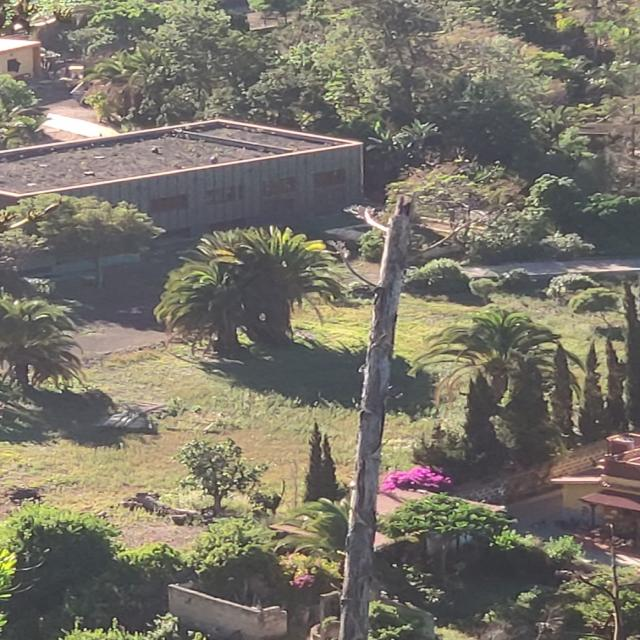Palm-Trees: (410, 308, 567, 410), (231, 226, 340, 347), (159, 260, 260, 357)
